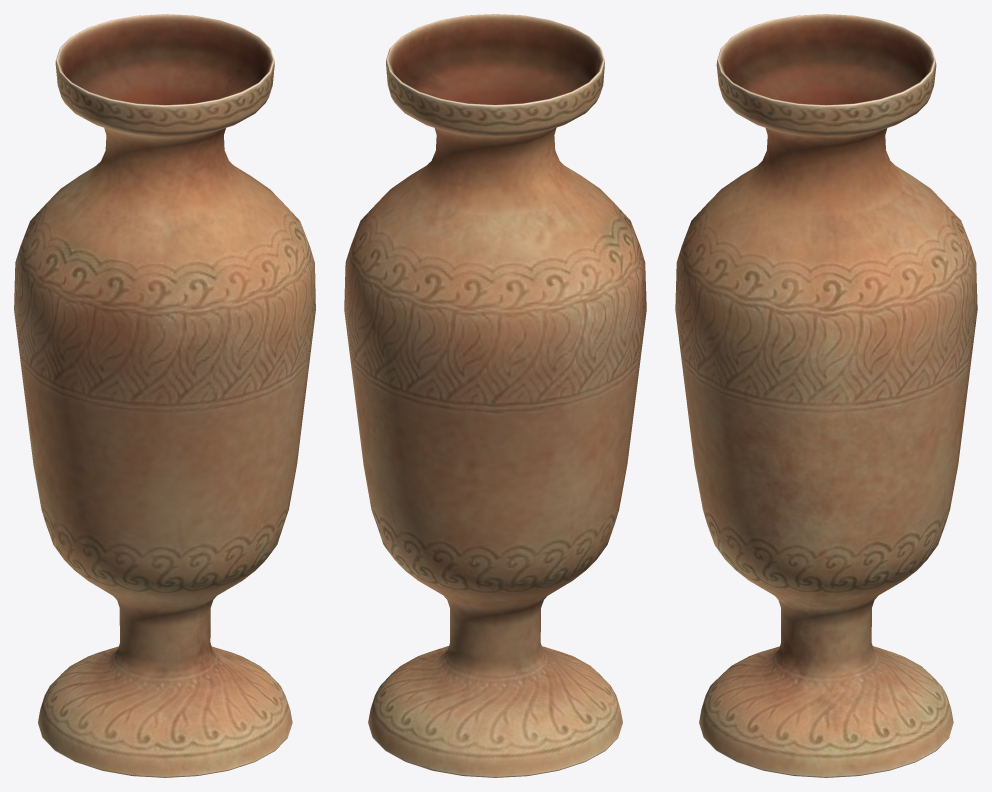
File: brass_vase_03.glb
3 views of the same model, side by side, from view 1: azimuth 30°, elevation 25°; view 2: azimuth 150°, elevation 25°; view 3: azimuth 270°, elevation 25° (orthographic).
Bounding box in the file's own units: 0.0825 × 0.2004 × 0.0825.
Materials: 1 (1 with a texture image).
